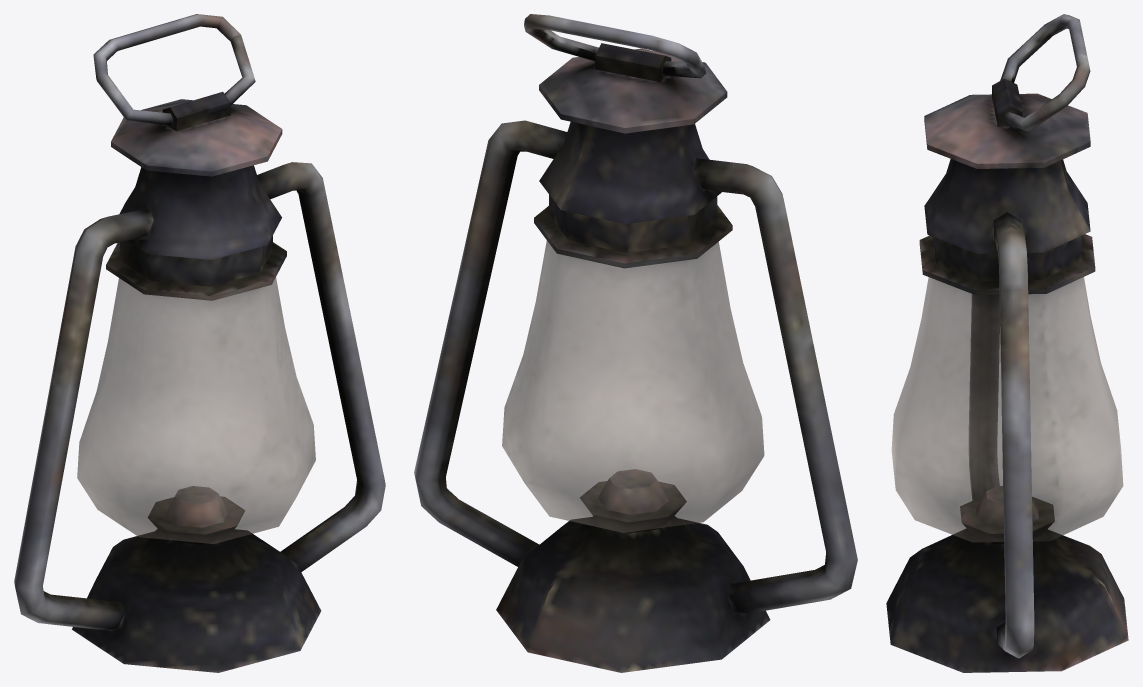
File: Lantern.FBX
3 renders of one model, left to right at view 1: azimuth 30°, elevation 25°; view 2: azimuth 150°, elevation 25°; view 3: azimuth 270°, elevation 25°, orthographic. The views are drawn at different scales.
Parts seen in each view (by area): view 1: Lantern; view 2: Lantern; view 3: Lantern.
Part boxes in pixels (x1,y1,x2,y2): Lantern: [14, 14, 385, 672]; Lantern: [414, 14, 857, 672]; Lantern: [886, 14, 1128, 672].
Bounding box in the file's own units: 25.81 × 36.08 × 13.69.
2 materials, 2 textured.
